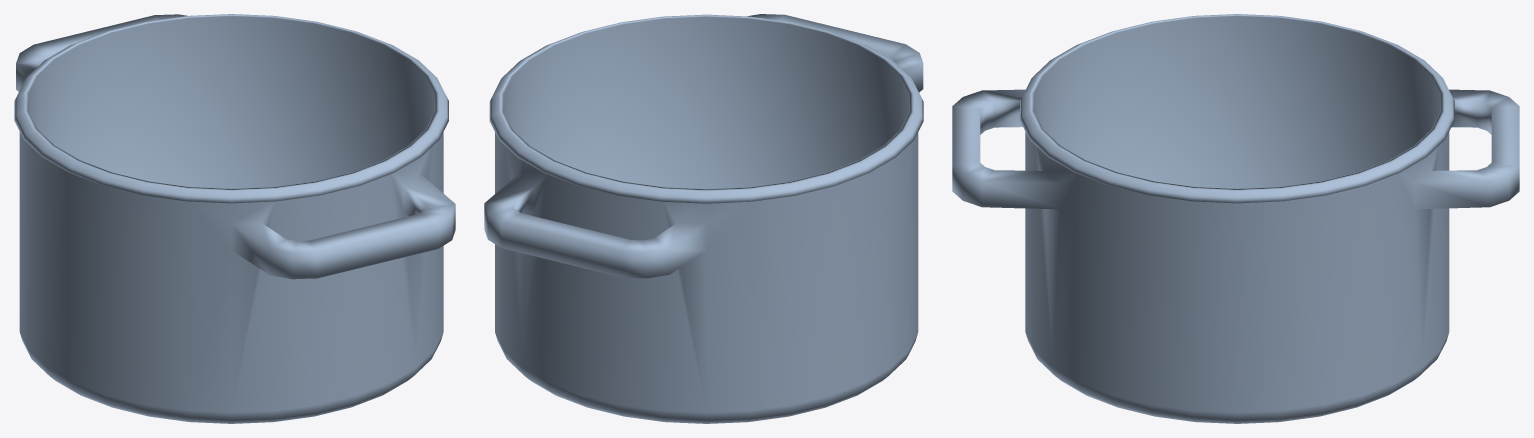
The model's file is Pot 2.fbx.
3 renders of one model, left to right at view 1: azimuth 30°, elevation 25°; view 2: azimuth 150°, elevation 25°; view 3: azimuth 270°, elevation 25°, orthographic.
Visible parts, largest first — view 1: polySurface2; view 2: polySurface2; view 3: polySurface2.
Boxes of the visible parts, left/top/right/bottom form: polySurface2: left=14, top=14, right=455, bottom=423; polySurface2: left=484, top=14, right=923, bottom=423; polySurface2: left=952, top=14, right=1519, bottom=423.
Bounding box in the file's own units: 4.5 × 2.7 × 5.84.
